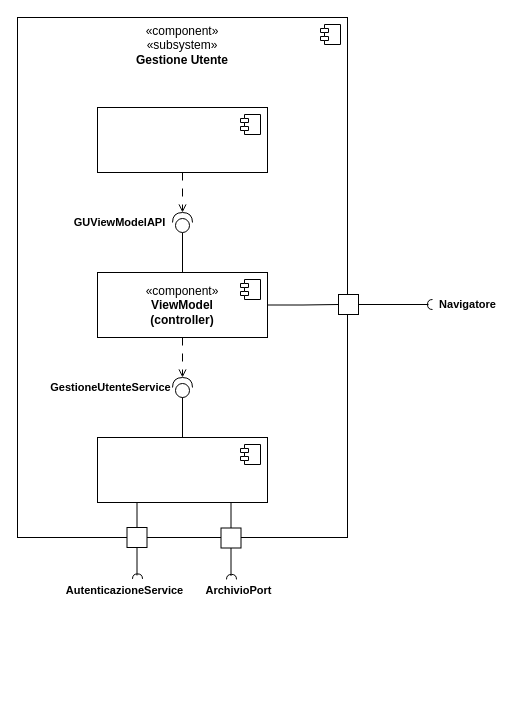
Some shapes in this 525 by 714 pixel diagram are drawn without their labels. The box of each missing label's shape, as (x1, y1, x2, y2) in pixels:
«component» Service: (96, 436, 268, 502)
«component» View (GUI): (96, 106, 268, 172)
